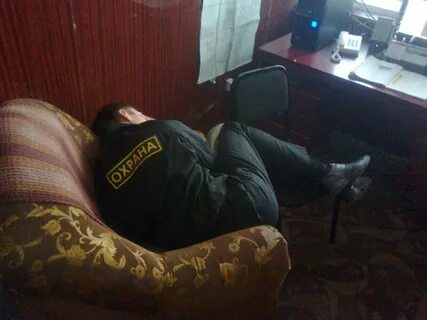sleep: (93, 102, 372, 234)
